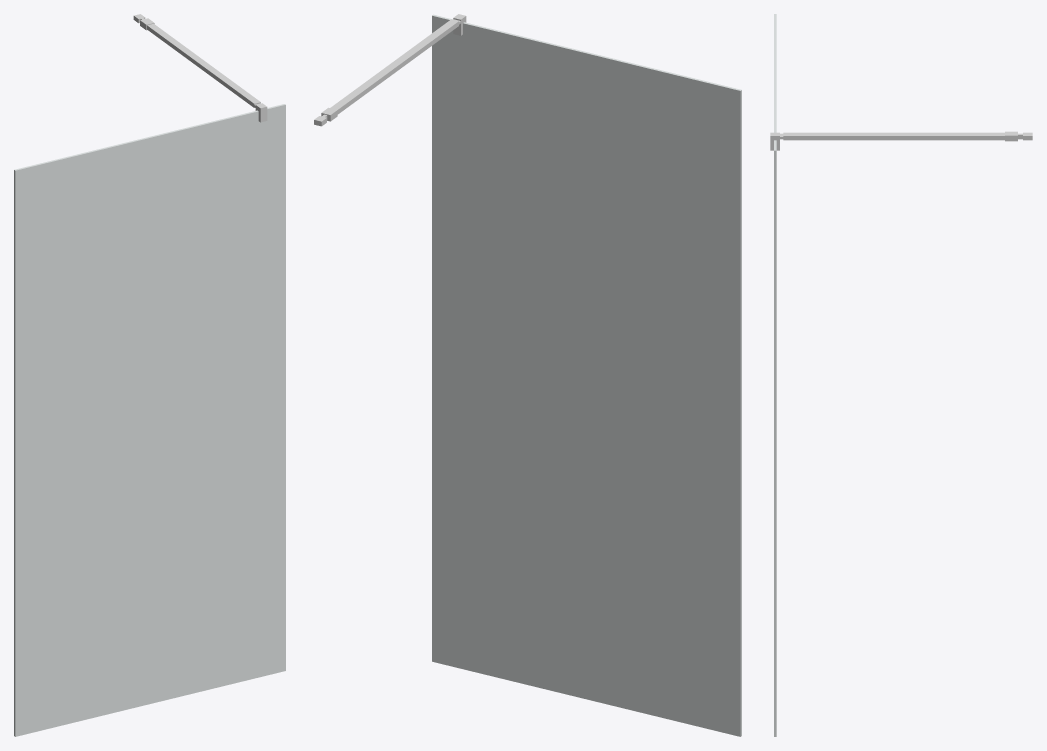
File: AEC_49637.glb
3 renders of one model, left to right at view 1: azimuth 30°, elevation 25°; view 2: azimuth 150°, elevation 25°; view 3: azimuth 270°, elevation 25°, orthographic. The views are drawn at different scales.
Visible parts, largest first — view 1: 0; view 2: 0; view 3: 0.
Part boxes in pixels (x1,y1,x2,y2): 0: [14, 14, 285, 736]; 0: [314, 14, 741, 736]; 0: [770, 14, 1032, 736].
Size of the model in its own units: 1 by 2.02 by 0.8111.
Materials: 1 (1 with a texture image).
